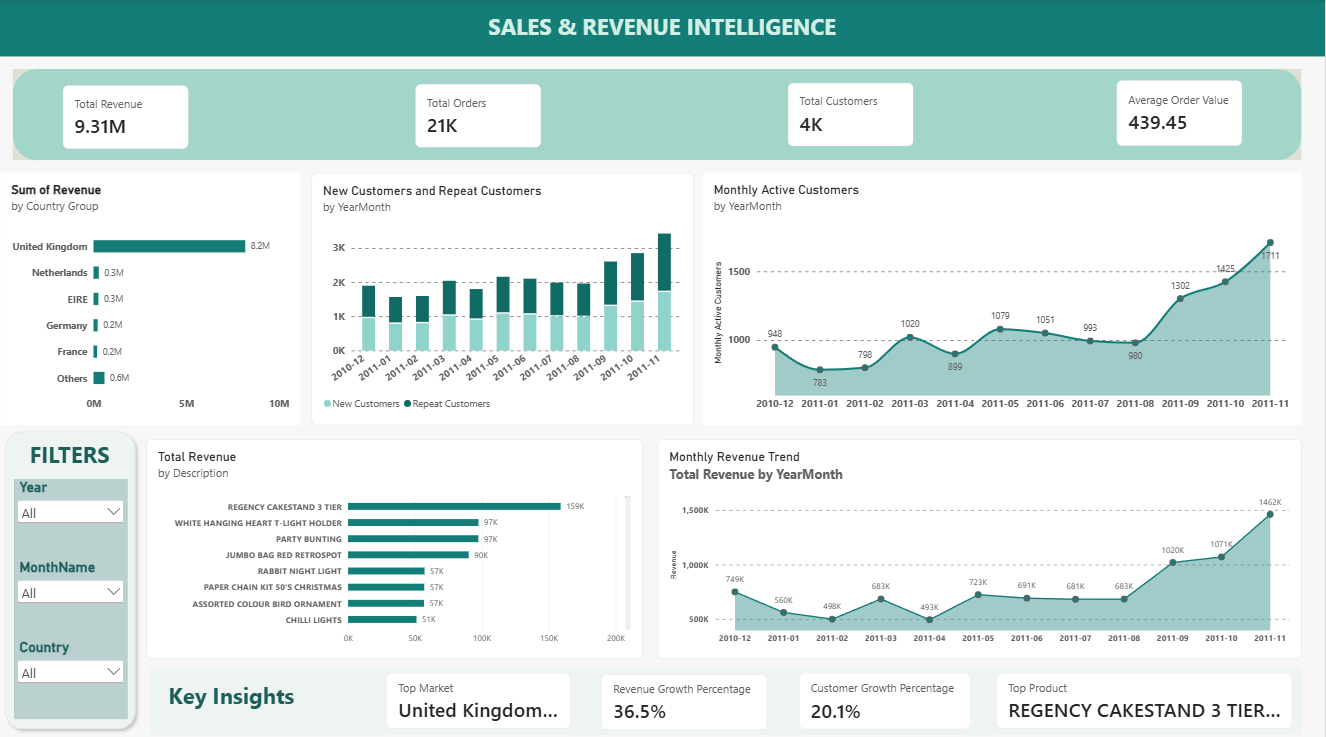

Layout of this report page (visuals, bound fields, positions):
{"tool":"powerbi","page":{"name":"Page 1","canvas":[1920,1080],"ordinal":0},"visuals":[{"type":"shape","box":[19.9,101.3,1865.8,132.1],"z":0},{"type":"shape","box":[0,617.1,206.3,448.8],"z":1000},{"type":"textbox","box":[0,0,1920.1,83.2],"z":2000},{"type":"cardVisual","fields":{"Data":["Online Retail.Total Revenue"]},"box":[92.3,124.9,182.8,92.3],"z":3000},{"type":"cardVisual","fields":{"Data":["Online Retail.Total Orders"]},"box":[602.6,123.1,182.8,92.3],"z":4000},{"type":"cardVisual","fields":{"Data":["Online Retail.Total Customers"]},"box":[1141.9,121.2,182.8,92.3],"z":5000},{"type":"cardVisual","fields":{"Data":["Online Retail.Average Order Value"]},"box":[1617.8,117.6,182.8,95.9],"z":6000},{"type":"lineChart","title":"Monthly Revenue Trend","fields":{"Category":["DateTable.YearMonth"],"Y":["Online Retail.Total Revenue"]},"box":[953.7,637,932,318.5],"z":7000},{"type":"clusteredBarChart","fields":{"Category":["Country Revenue Groups.Country Group"],"Y":["Sum(Country Revenue Groups.Revenue)"]},"box":[1.8,251.5,434.3,365.6],"z":8000},{"type":"clusteredBarChart","fields":{"Category":["Online Retail.Description"],"Y":["Online Retail.Total Revenue"]},"box":[213.5,637,718.4,318.5],"z":9000},{"type":"lineChart","fields":{"Category":["DateTable.YearMonth"],"Y":["Online Retail.Monthly Active Customers"]},"box":[1018.8,251.5,866.8,365.6],"z":10000},{"type":"slicer","fields":{"Values":["DateTable.Year"]},"box":[21.7,694.9,164.6,116.3],"z":11000},{"type":"slicer","fields":{"Values":["DateTable.MonthName"]},"box":[21.7,810.7,164.6,116.3],"z":12000},{"type":"slicer","fields":{"Values":["Online Retail.Country"]},"box":[21.7,926.5,164.6,116.3],"z":13000},{"type":"textbox","box":[19.9,637,164.7,47.1],"z":14000},{"type":"textbox","box":[219,968.2,1666.7,97.7],"z":15000},{"type":"cardVisual","fields":{"Data":["Online Retail.Revenue Growth Percentage"]},"box":[872.3,977.2,240.7,81.4],"z":16000},{"type":"cardVisual","fields":{"Data":["Online Retail.Customer Growth Percentage"]},"box":[1158.2,975.4,248.6,82.2],"z":17000},{"type":"cardVisual","fields":{"Data":["Online Retail.Top Market"]},"box":[561,975.4,267.8,81.4],"z":18000},{"type":"cardVisual","fields":{"Data":["Online Retail.Top Product"]},"box":[1444.1,975.4,428.9,81.4],"z":19000},{"type":"columnChart","fields":{"Category":["DateTable.YearMonth"],"Y":["Online Retail.New Customers","Online Retail.Repeat Customers"]},"box":[452.4,251.5,553.8,365.6],"z":19001}]}

Visuals, with their boxes in screenshot pixels (x1, y1, x2, y2), scaled from the page's 1920x1080 canvas onto the 1326x737 screenshot:
shape: select_region(14, 69, 1302, 159)
shape: select_region(0, 421, 142, 727)
textbox: select_region(0, 0, 1325, 57)
cardVisual - Online Retail.Total Revenue: select_region(64, 85, 190, 148)
cardVisual - Online Retail.Total Orders: select_region(416, 84, 542, 147)
cardVisual - Online Retail.Total Customers: select_region(789, 83, 915, 146)
cardVisual - Online Retail.Average Order Value: select_region(1117, 80, 1244, 146)
"Monthly Revenue Trend" lineChart: select_region(659, 435, 1302, 652)
clusteredBarChart - Country Revenue Groups.Country Group x Sum(Country Revenue Groups.Revenue): select_region(1, 172, 301, 421)
clusteredBarChart - Online Retail.Description x Online Retail.Total Revenue: select_region(147, 435, 644, 652)
lineChart - DateTable.YearMonth x Online Retail.Monthly Active Customers: select_region(704, 172, 1302, 421)
slicer - DateTable.Year: select_region(15, 474, 129, 554)
slicer - DateTable.MonthName: select_region(15, 553, 129, 633)
slicer - Online Retail.Country: select_region(15, 632, 129, 712)
textbox: select_region(14, 435, 127, 467)
textbox: select_region(151, 661, 1302, 727)
cardVisual - Online Retail.Revenue Growth Percentage: select_region(602, 667, 769, 722)
cardVisual - Online Retail.Customer Growth Percentage: select_region(800, 666, 972, 722)
cardVisual - Online Retail.Top Market: select_region(387, 666, 572, 721)
cardVisual - Online Retail.Top Product: select_region(997, 666, 1294, 721)
columnChart - DateTable.YearMonth x Online Retail.New Customers: select_region(312, 172, 695, 421)
